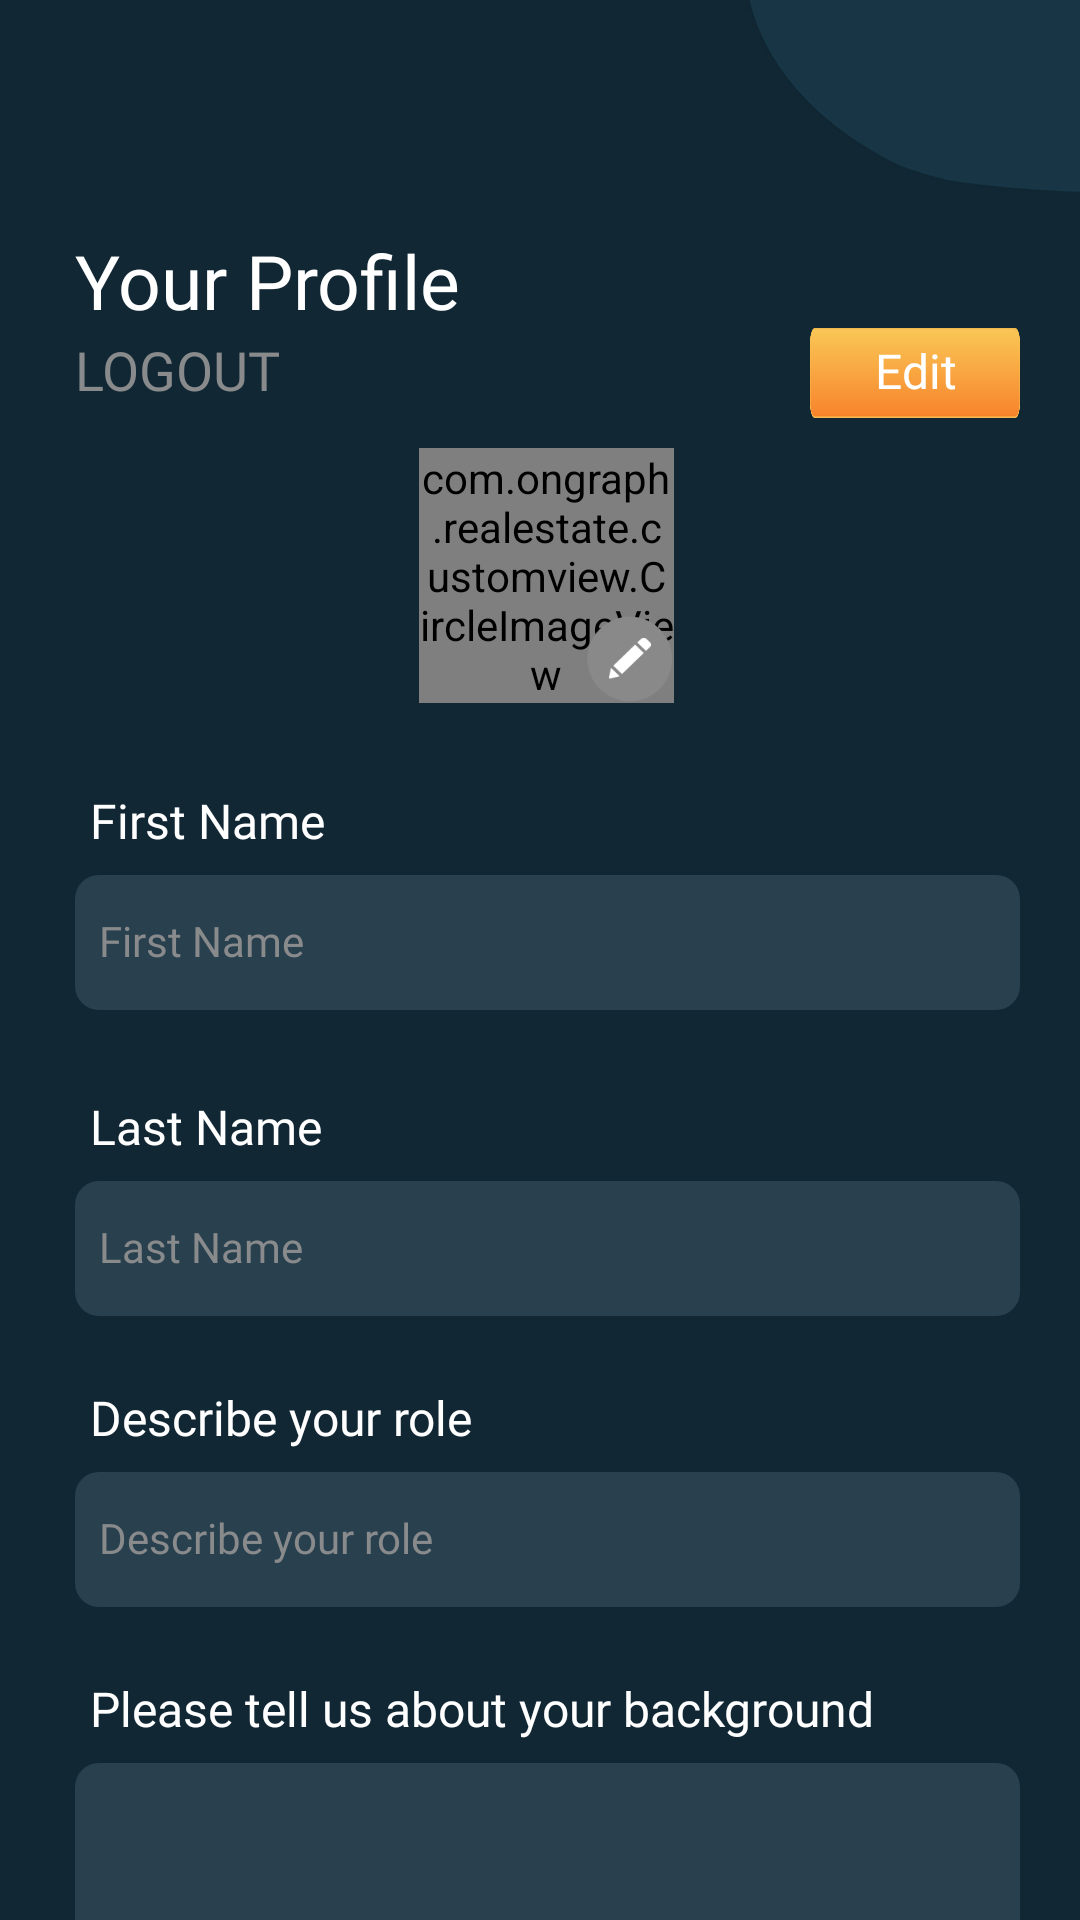

Icon click points for this 1080×1920 phone screenshot, format (x=x, y=y):
edit: (x=630, y=659)
